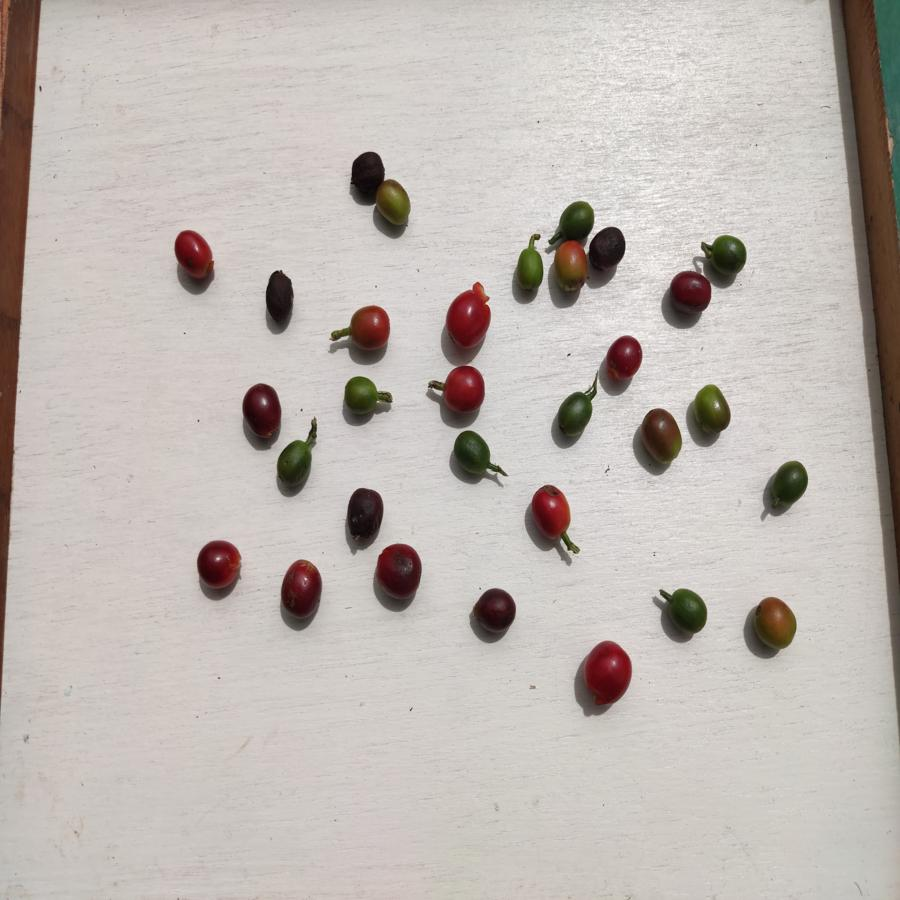Inmaduro: (553, 389, 599, 449), (452, 428, 498, 482), (663, 585, 708, 638), (273, 438, 314, 491), (768, 459, 809, 508), (341, 376, 387, 417), (705, 234, 750, 273), (509, 246, 547, 290), (553, 198, 594, 233)
Maduro: (579, 641, 638, 705), (444, 285, 492, 348), (529, 484, 574, 541), (441, 363, 489, 416), (171, 230, 216, 283), (345, 304, 392, 353)
Pinton: (750, 596, 801, 652), (639, 408, 686, 464), (690, 384, 735, 435), (374, 180, 416, 227), (554, 240, 588, 295)
Sobremaduro: (374, 540, 423, 604), (278, 556, 323, 622), (195, 539, 242, 596), (342, 485, 386, 542), (474, 585, 516, 644), (242, 382, 283, 440), (669, 267, 715, 318), (260, 265, 296, 327), (606, 331, 642, 384), (588, 225, 626, 271), (346, 151, 385, 195)
